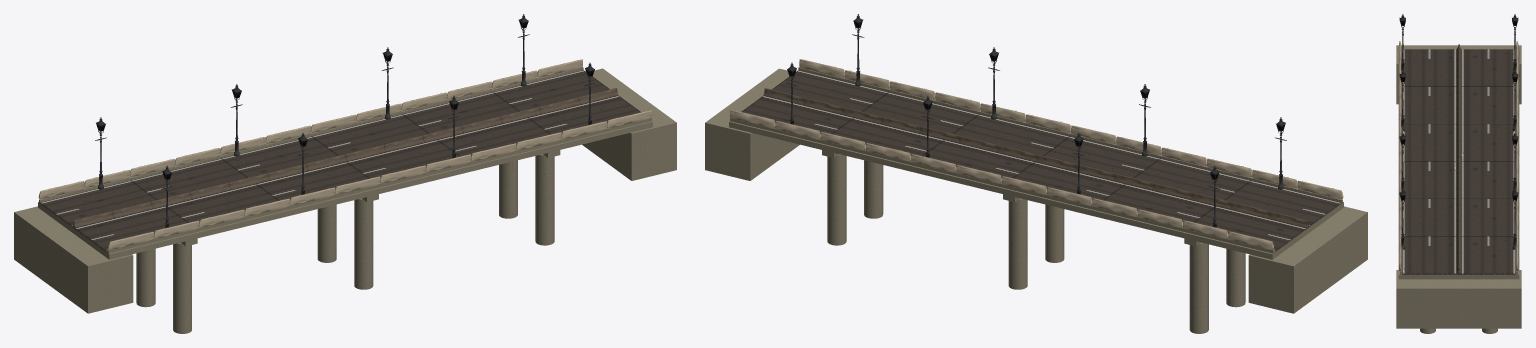
File: overpass.glb
3 views of the same model, side by side, from view 1: azimuth 30°, elevation 25°; view 2: azimuth 150°, elevation 25°; view 3: azimuth 270°, elevation 25° (orthographic). The views are drawn at different scales.
Visible parts, largest first — view 1: road, abutment (×2), pier (×6), deck, curb (×2); view 2: road, abutment (×2), pier (×6), deck, curb (×2); view 3: road, abutment (×2), lamp (×8), deck, curb (×2), barrier.
Boxes of the visible parts, x1,y1,x2,y2 form: road: [40, 70, 640, 252]; abutment (×2): [14, 68, 676, 313]; pier (×6): [136, 154, 554, 333]; deck: [38, 121, 652, 259]; curb (×2): [39, 67, 651, 253]; road: [741, 70, 1341, 252]; abutment (×2): [705, 68, 1367, 313]; pier (×6): [827, 154, 1245, 333]; deck: [729, 121, 1343, 259]; curb (×2): [730, 67, 1342, 253]; road: [1402, 49, 1515, 274]; abutment (×2): [1396, 45, 1521, 328]; lamp (×8): [1399, 14, 1518, 249]; deck: [1398, 50, 1519, 279]; curb (×2): [1400, 47, 1517, 274]; barrier: [1456, 252, 1461, 273].
Bounding box in the file's own units: 78 × 23.1 × 17.
8 materials, 7 textured.
